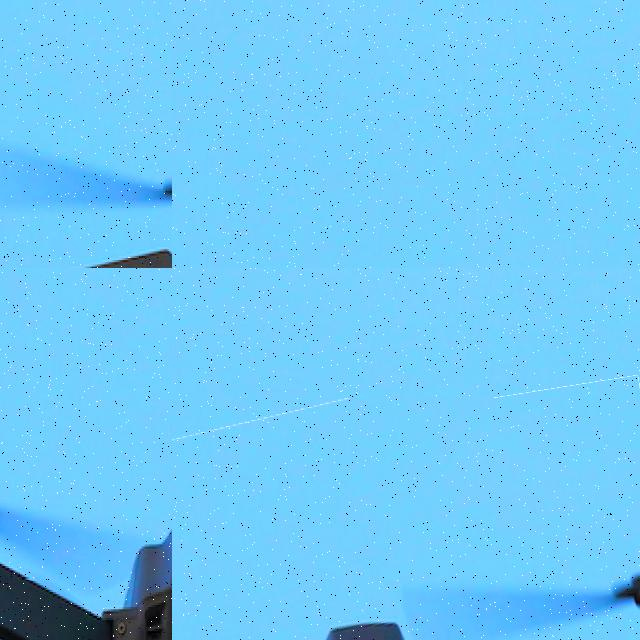drone: (172, 398, 640, 640)
